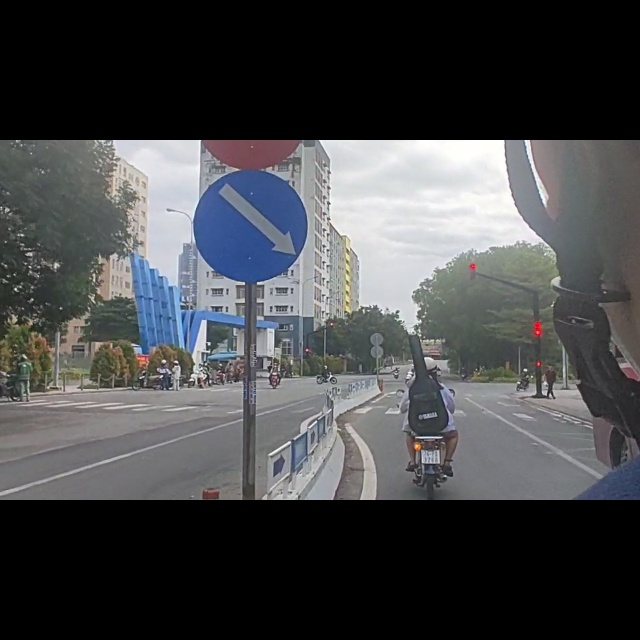bien_hieu_lenh: (191, 50, 319, 256)
